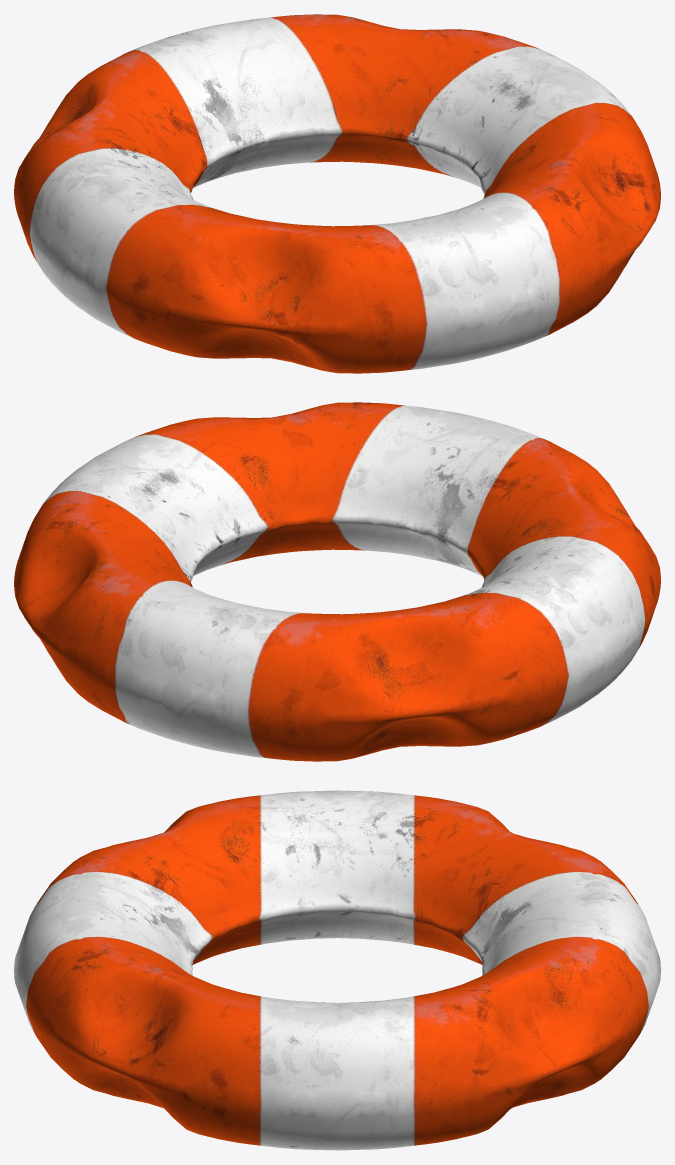
3 renders of one model, top to bottom at view 1: azimuth 30°, elevation 25°; view 2: azimuth 150°, elevation 25°; view 3: azimuth 270°, elevation 25°, orthographic.
Visible parts, largest first — view 1: Retopo_Mball.001; view 2: Retopo_Mball.001; view 3: Retopo_Mball.001.
Boxes of the visible parts, <box> form: Retopo_Mball.001: <box>14,14,660,373</box>; Retopo_Mball.001: <box>14,402,660,761</box>; Retopo_Mball.001: <box>14,790,660,1150</box>.
Size of the model in its own units: 176 by 39.71 by 176.
Materials: 1 (1 with a texture image).
